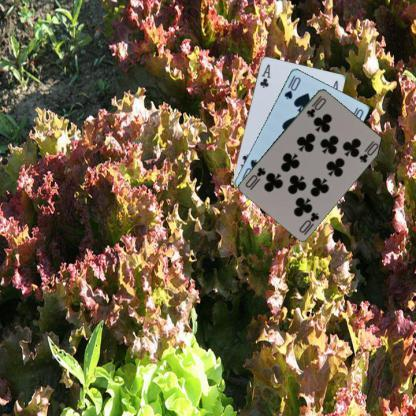10c: (296, 209, 321, 236), (304, 92, 328, 118)
10s: (282, 74, 302, 100)
Ac: (257, 61, 272, 89)
